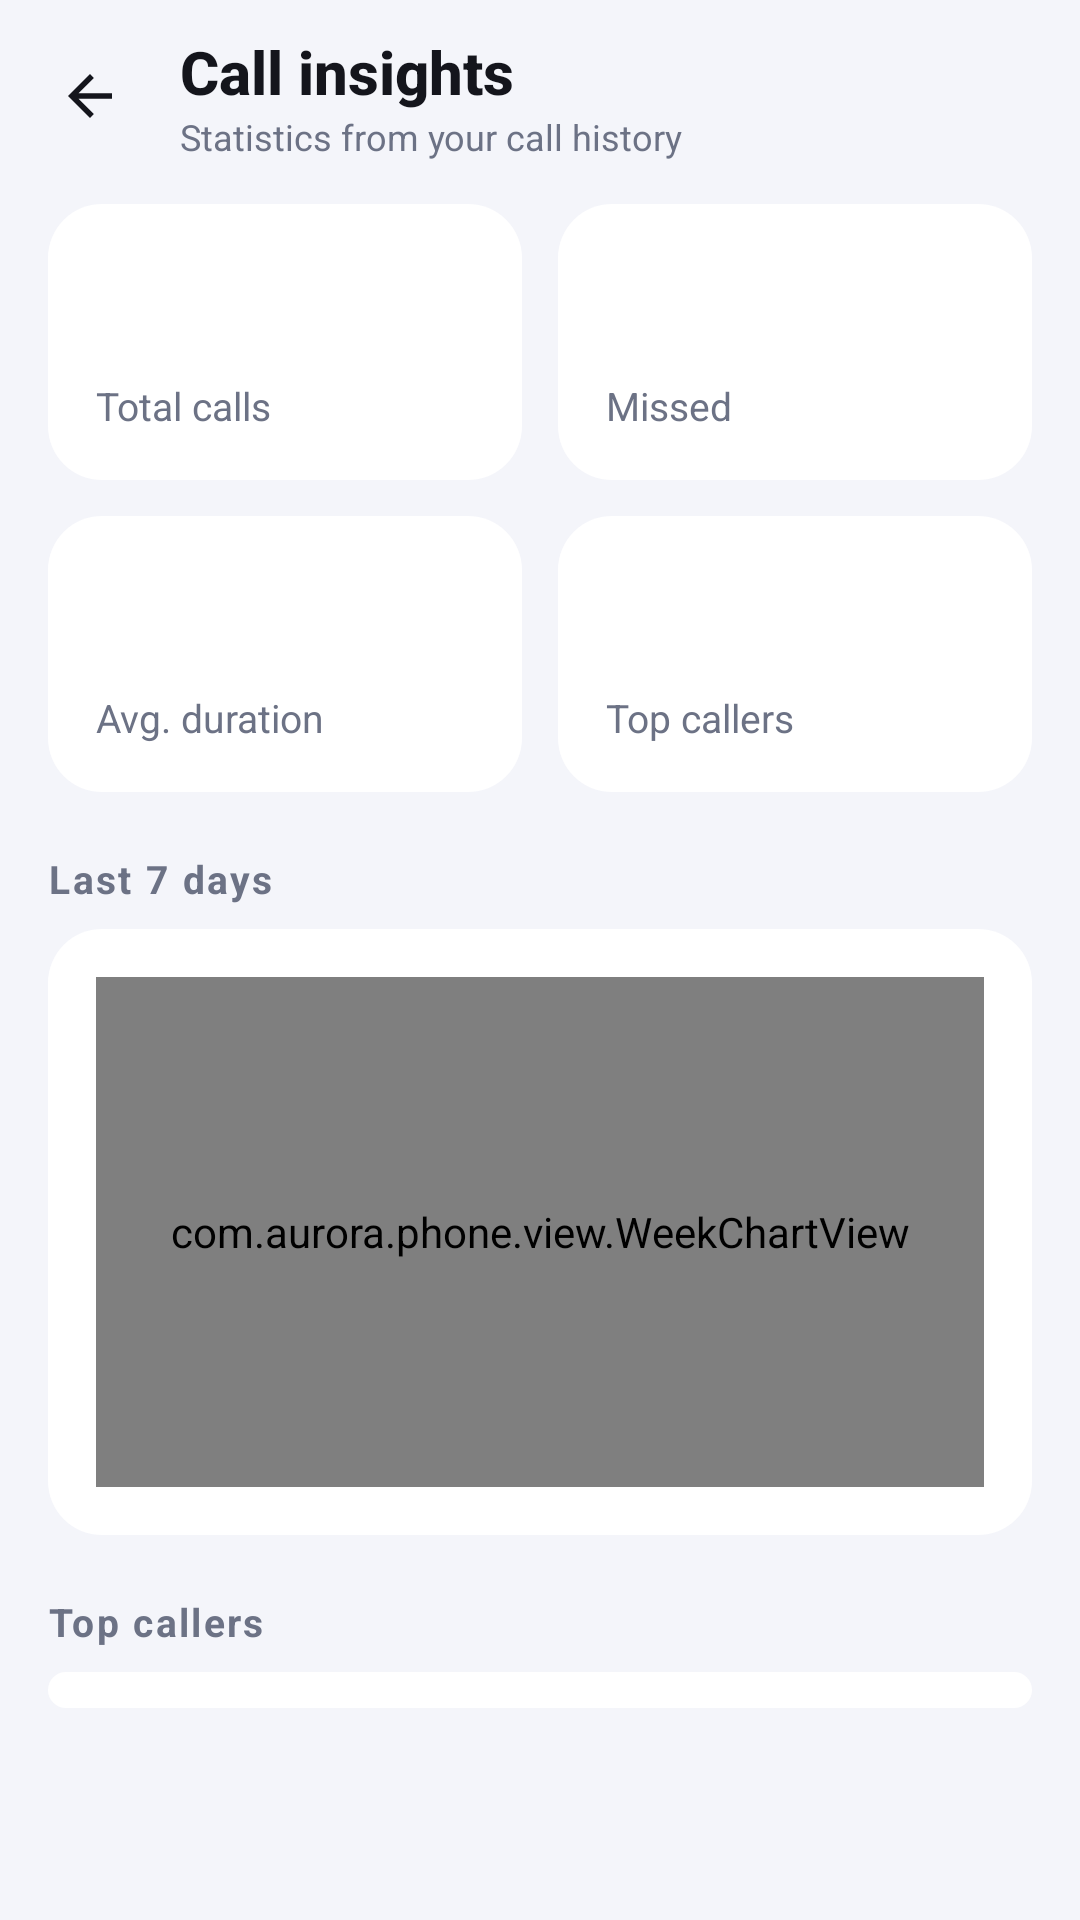

Named icons in this screenshot (1080w x 1920h) and their centers, (x,y):
back: (90,96)
